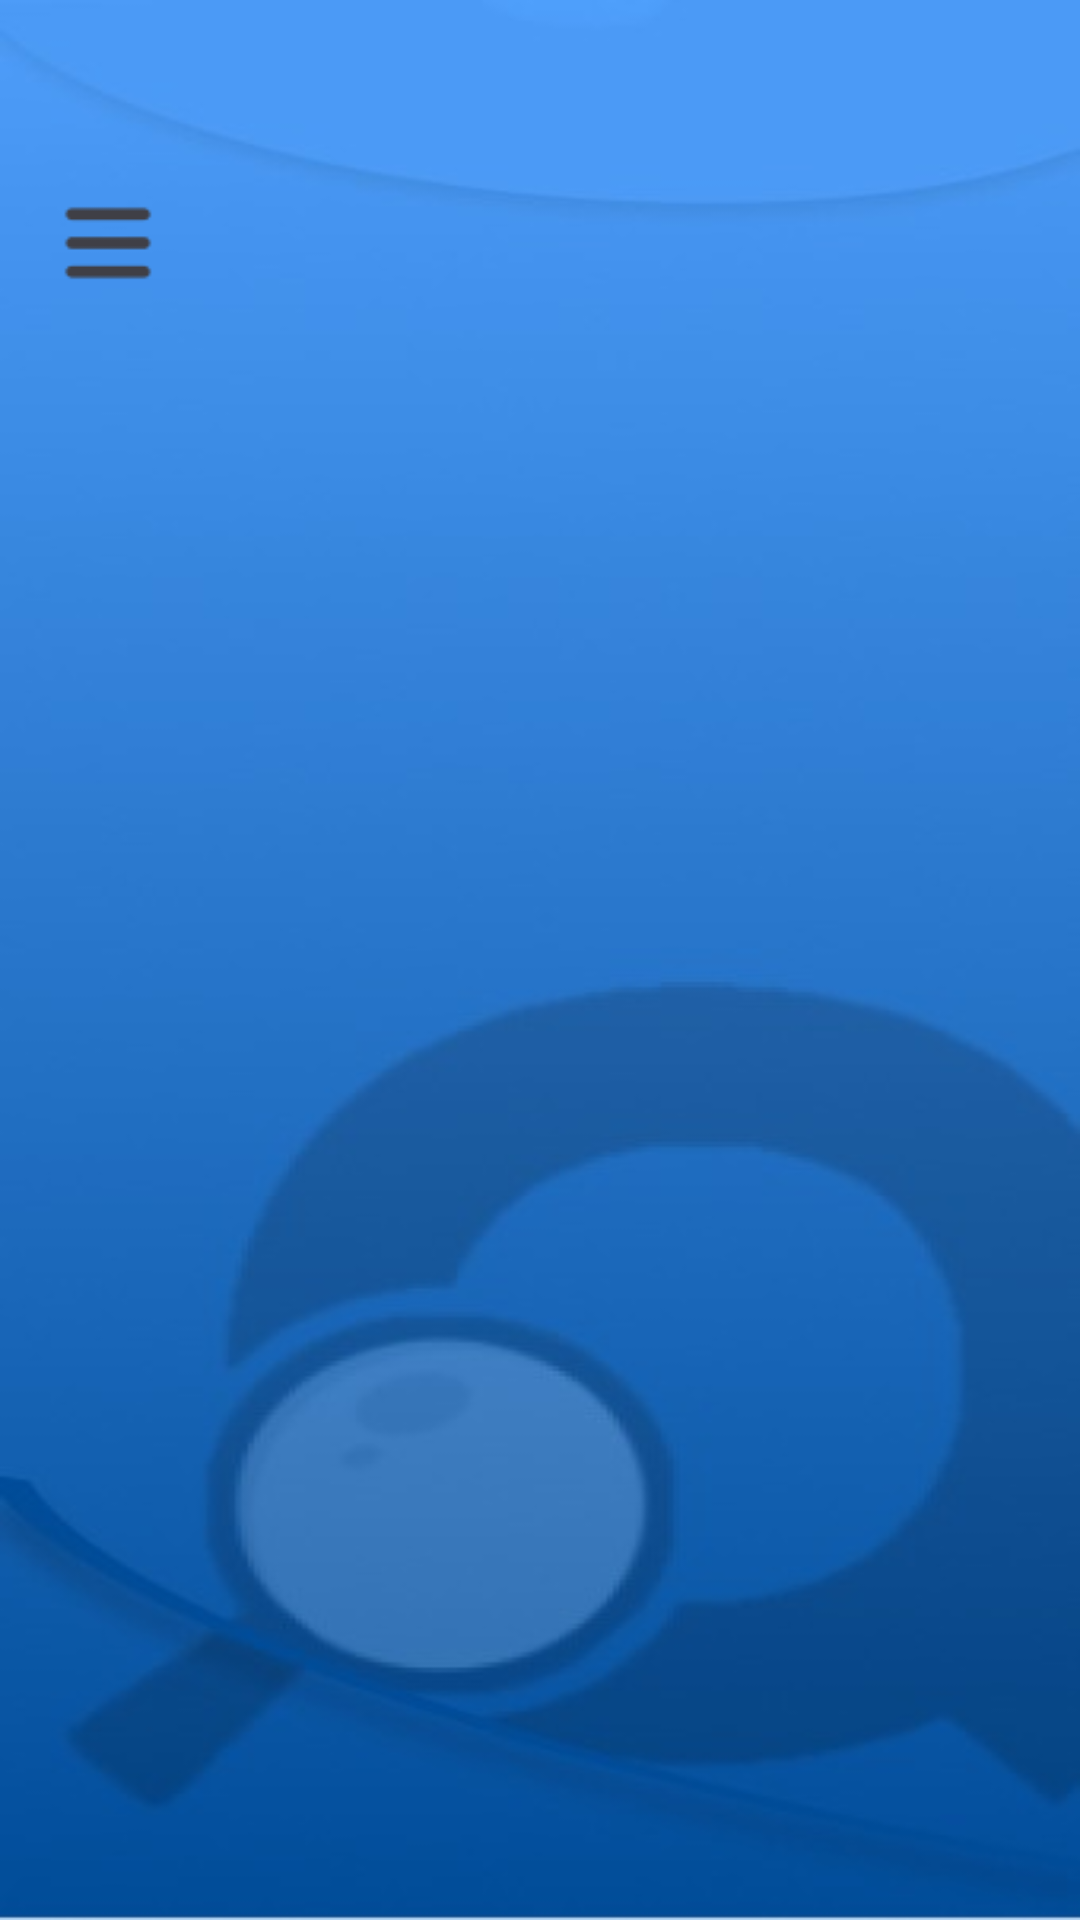

Named icons in this screenshot (1080px×1920px) and their bounding boxes, region(x1, y1, x2, y2):
Menú: region(65, 207, 151, 279)
